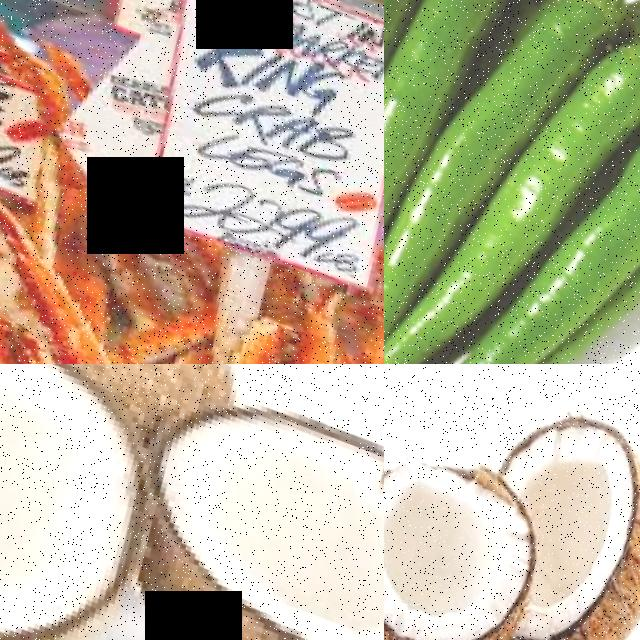chilli: (384, 110, 502, 364)
coconut: (63, 364, 384, 640), (0, 364, 189, 640), (459, 394, 640, 640), (384, 431, 567, 640)
crab: (0, 181, 180, 364), (125, 253, 384, 364)
